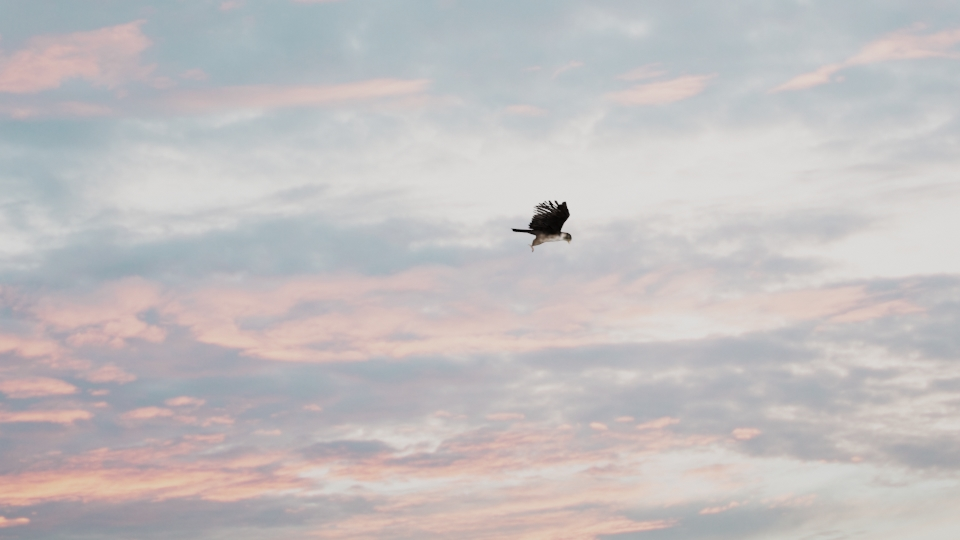bird: (512, 197, 576, 253)
